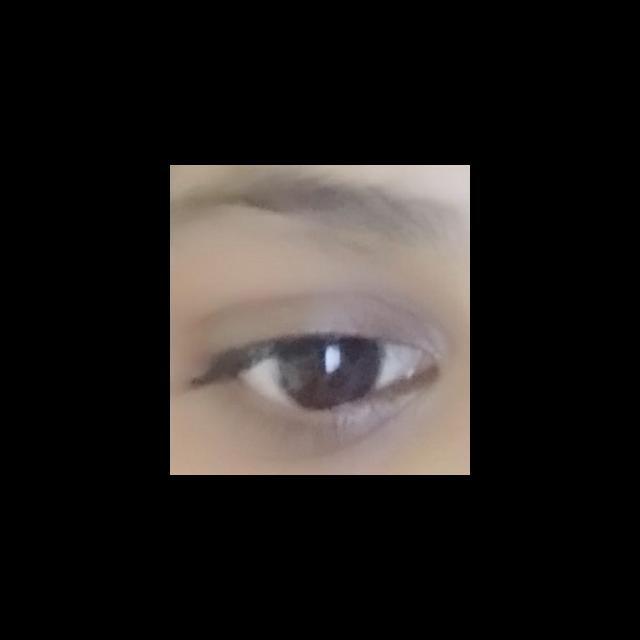eye: (242, 338, 419, 408)
iris: (278, 338, 379, 408)
